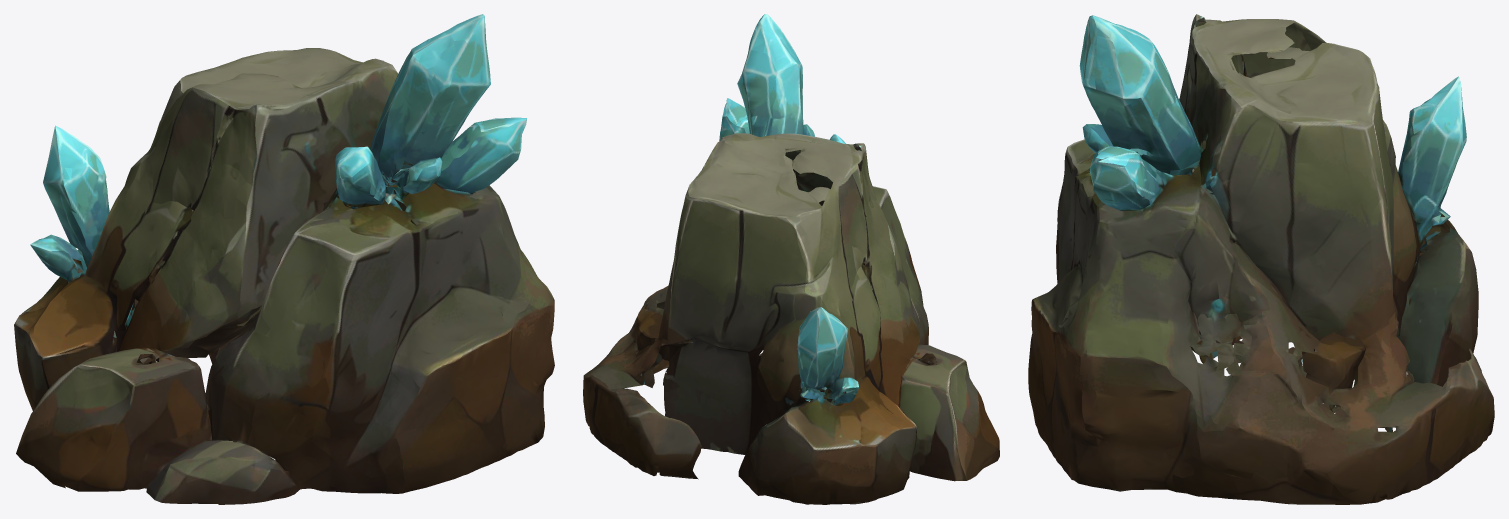
Rendered from rock_spirit_ore_stage1.glb.
The picture shows the model from 3 angles, left to right: view 1: azimuth 30°, elevation 25°; view 2: azimuth 150°, elevation 25°; view 3: azimuth 270°, elevation 25°; orthographic projection. The views are drawn at different scales.
Parts seen in each view (by area): view 1: rock_spirit_ore_stage1; view 2: rock_spirit_ore_stage1; view 3: rock_spirit_ore_stage1.
Boxes of the visible parts, left/top/right/bottom form: rock_spirit_ore_stage1: left=14, top=14, right=554, bottom=504; rock_spirit_ore_stage1: left=583, top=14, right=999, bottom=504; rock_spirit_ore_stage1: left=1028, top=14, right=1494, bottom=504.
Bounding box in the file's own units: 1.4 × 1.26 × 1.19.
1 material, 1 textured.
